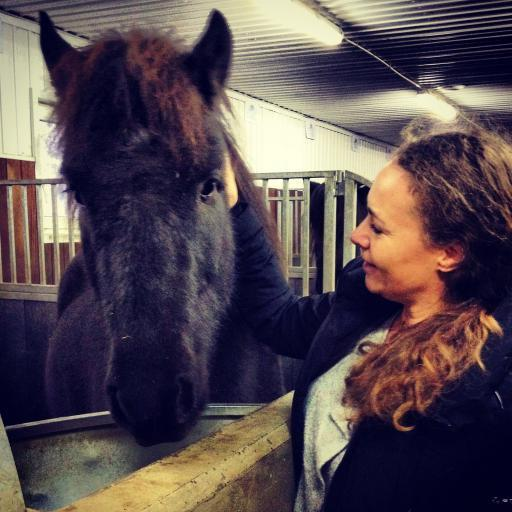horse: (36, 7, 290, 444)
